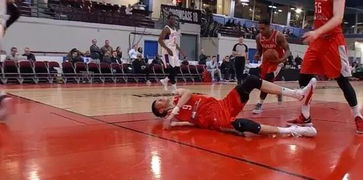fall: (144, 63, 323, 140)
